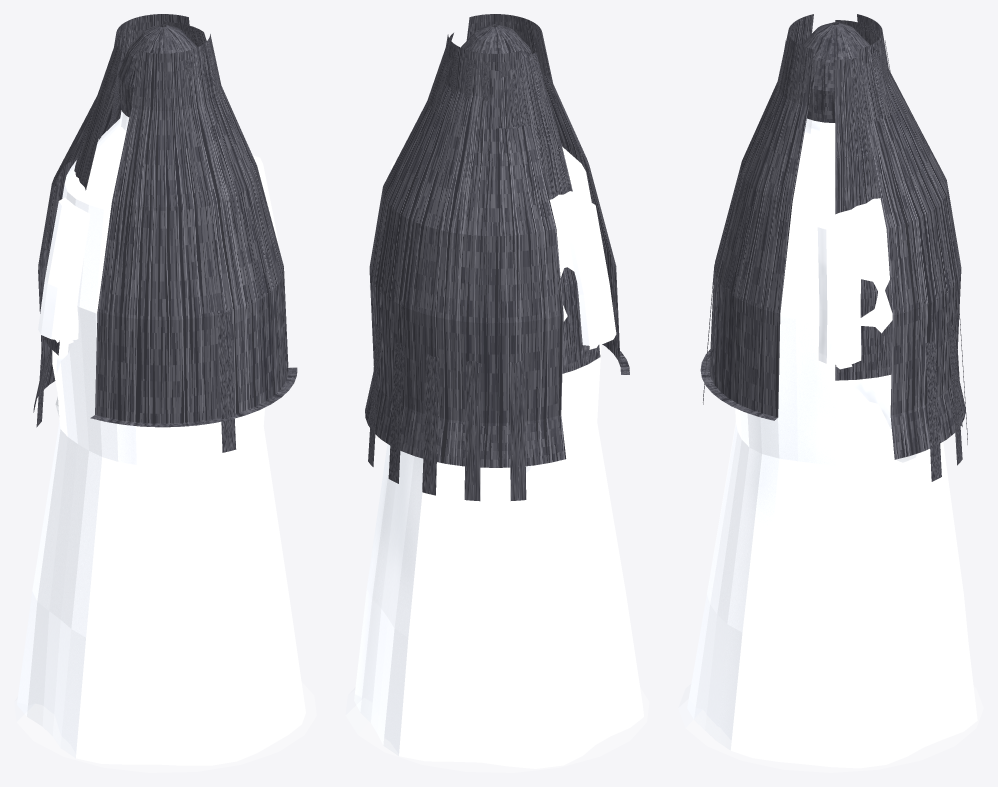
The model's file is ma-ao-ba-ba-trang.glb.
3 renders of one model, left to right at view 1: azimuth 30°, elevation 25°; view 2: azimuth 150°, elevation 25°; view 3: azimuth 270°, elevation 25°, orthographic.
Visible parts, largest first — view 1: Dress, Hair_BackHair, Mist_0, Sleeve_L, Hair_Veil, Hair_Head, Hair_Curtain_1, Hair_Strand_5; view 2: Dress, Hair_Veil, Hair_Curtain_1, Mist_0, Sleeve_L, Hair_BackHair, Hair_Strand_1, Hair_Strand_0, Hair_Strand_2, Hair_Strand_3, Hair_Head, Hair_Strand_4 (+1 smaller); view 3: Dress, Hair_BackHair, Hair_Veil, Hair_Curtain_0, Mist_0, Sleeve_R, Hair_Head, Hair_Strand_4, Hair_Strand_3, Arm_R.
Part boxes in pixels (bbox=[...]): Dress: bbox=[17, 119, 305, 765]; Hair_BackHair: bbox=[90, 34, 297, 427]; Mist_0: bbox=[14, 683, 316, 772]; Sleeve_L: bbox=[38, 197, 90, 340]; Hair_Veil: bbox=[33, 14, 190, 412]; Hair_Head: bbox=[118, 24, 197, 116]; Hair_Curtain_1: bbox=[43, 32, 122, 355]; Hair_Strand_5: bbox=[185, 59, 236, 452]; Dress: bbox=[354, 146, 643, 768]; Hair_Veil: bbox=[365, 34, 566, 467]; Hair_Curtain_1: bbox=[495, 52, 600, 373]; Mist_0: bbox=[346, 688, 648, 772]; Sleeve_L: bbox=[566, 201, 616, 345]; Hair_BackHair: bbox=[466, 14, 629, 374]; Hair_Strand_1: bbox=[464, 62, 489, 501]; Hair_Strand_0: bbox=[501, 62, 526, 500]; Hair_Strand_2: bbox=[422, 59, 472, 495]; Hair_Strand_3: bbox=[388, 54, 459, 483]; Hair_Head: bbox=[461, 24, 531, 58]; Hair_Strand_4: bbox=[368, 48, 449, 466]; Dress: bbox=[687, 132, 977, 768]; Hair_BackHair: bbox=[700, 14, 813, 420]; Hair_Veil: bbox=[857, 14, 965, 459]; Hair_Curtain_0: bbox=[835, 57, 893, 380]; Mist_0: bbox=[678, 684, 983, 772]; Sleeve_R: bbox=[817, 225, 862, 365]; Hair_Head: bbox=[801, 22, 869, 122]; Hair_Strand_4: bbox=[871, 52, 941, 481]; Hair_Strand_3: bbox=[881, 46, 962, 465]; Arm_R: bbox=[829, 364, 891, 429].
Size of the model in its own units: 0.68 by 1.68 by 0.68.
Materials: 4 (3 with a texture image).
